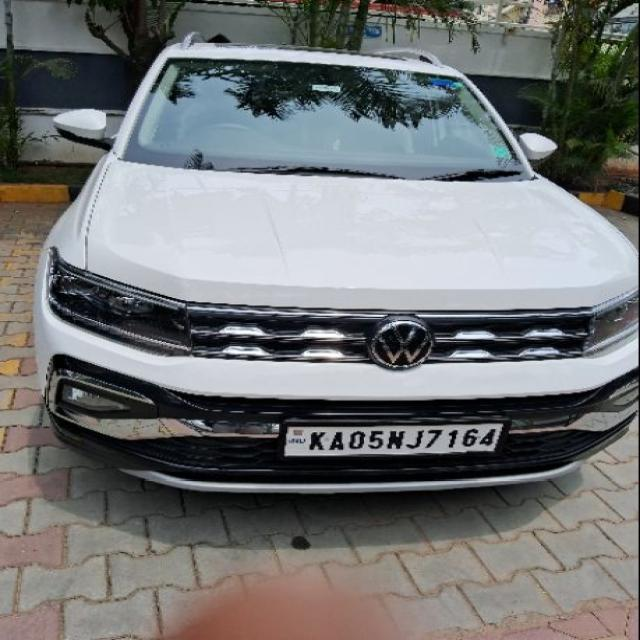license_plate: (279, 418, 507, 457)
